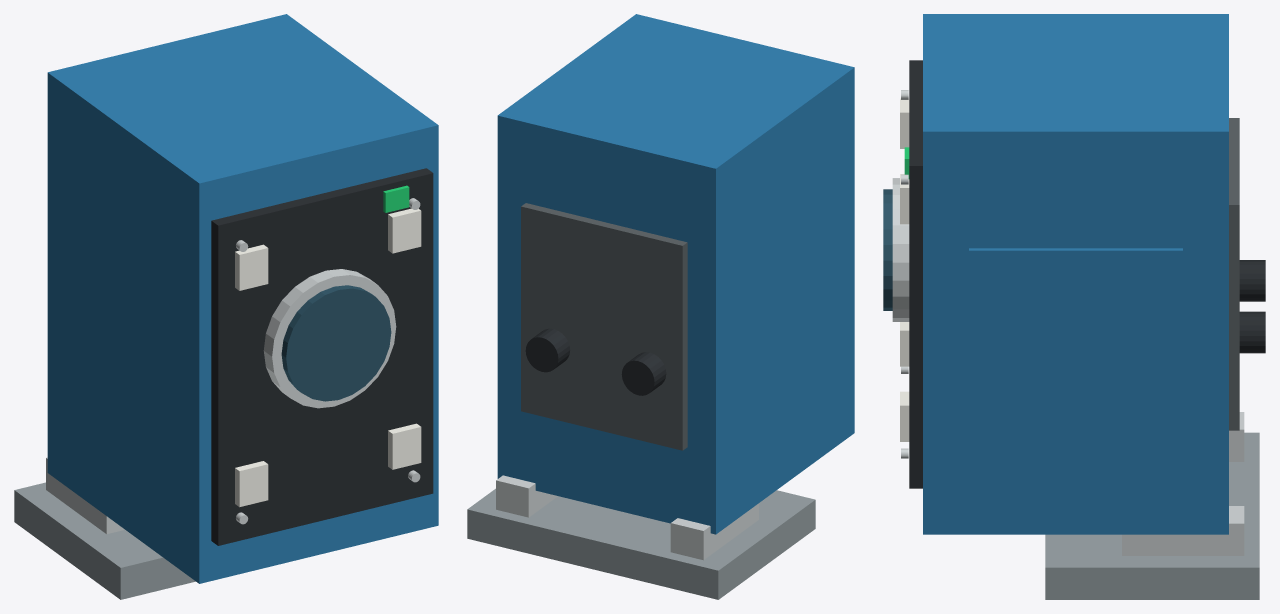
The picture shows the model from 3 angles, left to right: view 1: azimuth 30°, elevation 25°; view 2: azimuth 150°, elevation 25°; view 3: azimuth 270°, elevation 25°; orthographic projection. The views are drawn at different scales.
Visible parts, largest first — view 1: housing, front bezel, optical lens, Mount bracket, lens surround, illumination emitter.002, illumination emitter, illumination emitter.003, illumination emitter.001, mounting flange, status indicator; view 2: housing, Rear connector plate, Mount bracket, mounting flange, mounting flange.001, Electrical connector, Electrical connector.001; view 3: housing, blue side label, Mount bracket, front bezel, Rear connector plate, mounting flange.001, lens surround, optical lens, Electrical connector.001, Electrical connector, mounting flange, illumination emitter.002.
Boxes of the visible parts, box(x1,y1,x2,y2) form: housing: box(47, 14, 438, 583); front bezel: box(211, 168, 433, 545); optical lens: box(281, 285, 391, 401); Mount bracket: box(14, 482, 195, 599); lens surround: box(263, 269, 396, 408); illumination emitter.002: box(388, 423, 421, 469); illumination emitter: box(235, 461, 268, 507); illumination emitter.003: box(388, 208, 421, 253); illumination emitter.001: box(235, 244, 268, 290); mounting flange: box(46, 457, 124, 534); status indicator: box(383, 185, 409, 212); housing: box(497, 14, 854, 534); Rear connector plate: box(521, 203, 687, 450); Mount bracket: box(467, 488, 815, 599); mounting flange: box(670, 503, 758, 560); mounting flange.001: box(496, 475, 557, 517); Electrical connector: box(621, 352, 666, 395); Electrical connector.001: box(525, 328, 570, 372); housing: box(923, 14, 1228, 534); blue side label: box(969, 248, 1182, 419); Mount bracket: box(1045, 432, 1259, 599); front bezel: box(909, 60, 922, 488); Rear connector plate: box(1229, 118, 1239, 430); mounting flange.001: box(1122, 506, 1244, 555); lens surround: box(892, 178, 909, 321); optical lens: box(883, 189, 892, 310); Electrical connector.001: box(1239, 311, 1265, 353); Electrical connector: box(1239, 260, 1265, 301); mounting flange: box(1229, 412, 1244, 461); illumination emitter.002: box(900, 391, 909, 441).
Bounding box in the file's own units: 0.0575 × 0.0912 × 0.0688.
